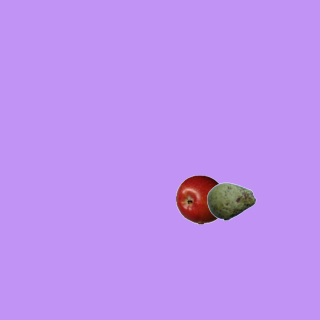Apple Braeburn: (175, 174, 225, 224)
Pear Stone: (206, 176, 256, 226)
